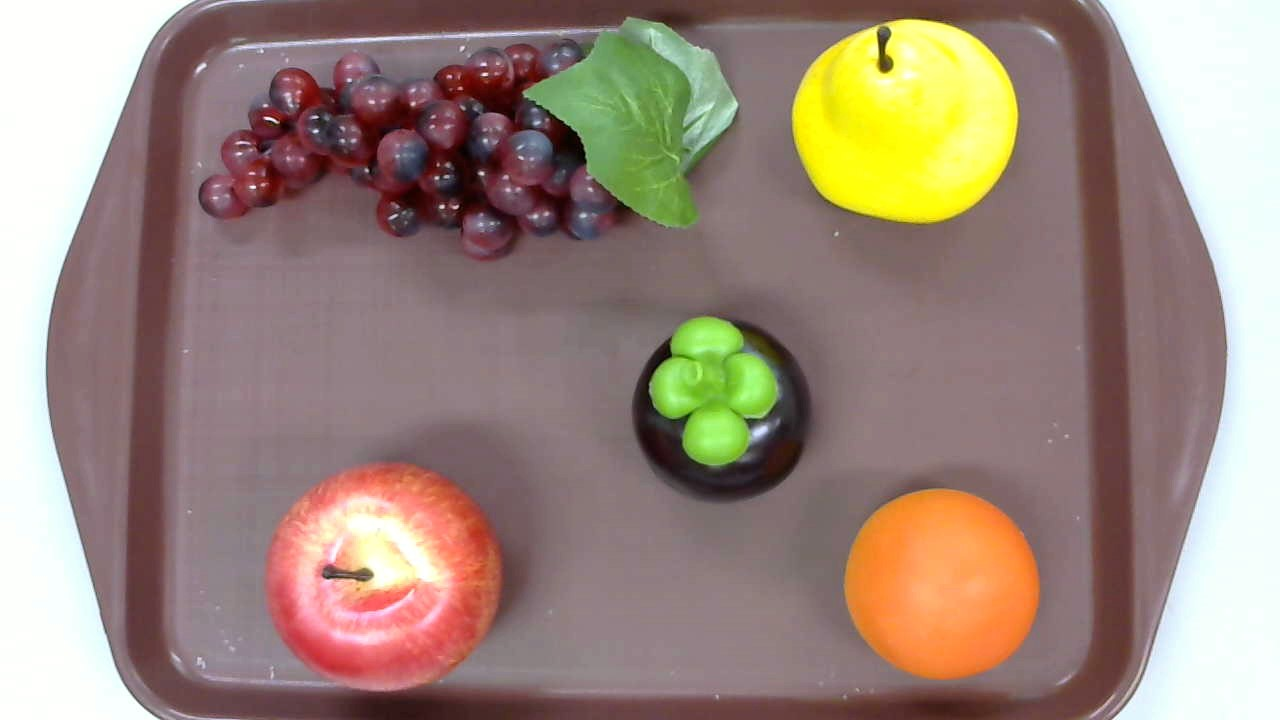bun: (843, 487, 1041, 679)
grape: (198, 16, 740, 264)
mangosteen: (631, 313, 810, 503)
red apple: (263, 459, 503, 695)
yellow pear: (791, 17, 1018, 225)
